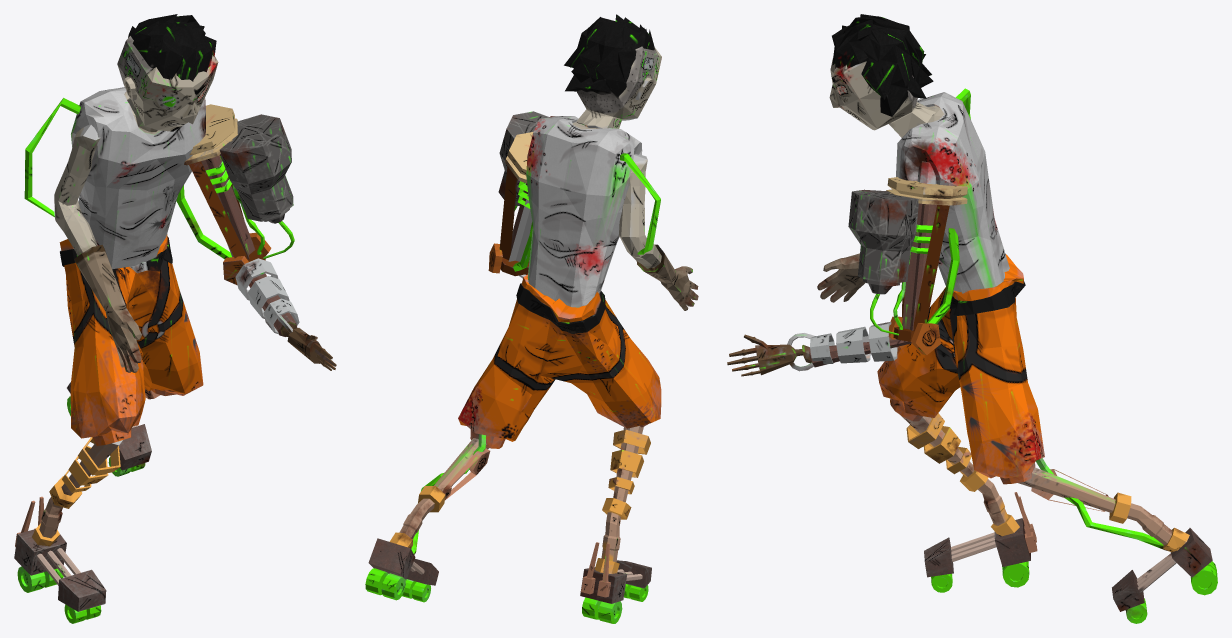
File: CyborgFINALAnimation_000015.obj
The picture shows the model from 3 angles, left to right: view 1: azimuth 30°, elevation 25°; view 2: azimuth 150°, elevation 25°; view 3: azimuth 270°, elevation 25°; orthographic projection. The views are drawn at different scales.
Parts seen in each view (by area): view 1: CyborgMesh_Cube.002; view 2: CyborgMesh_Cube.002; view 3: CyborgMesh_Cube.002.
Boxes of the visible parts, box(x1,y1,x2,y2) form: CyborgMesh_Cube.002: box(14, 14, 336, 623); CyborgMesh_Cube.002: box(365, 14, 698, 623); CyborgMesh_Cube.002: box(727, 14, 1217, 623).
Size of the model in its own units: 3.34 by 8.81 by 6.6.
